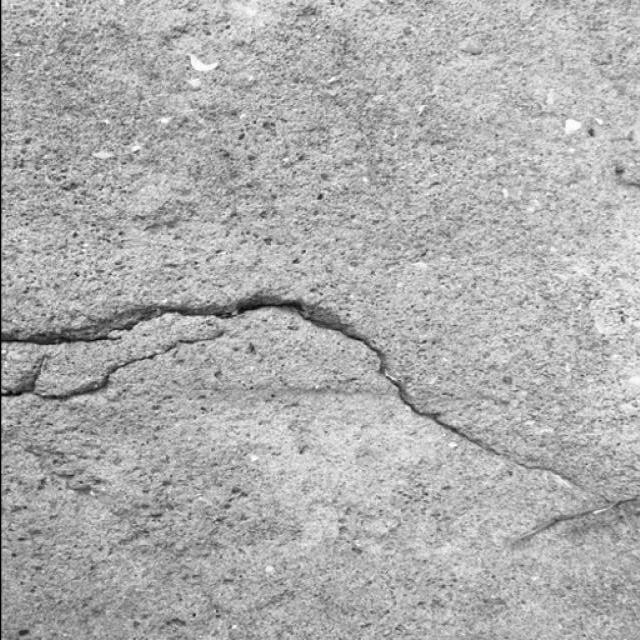SurfaceCrack: (1, 261, 640, 562)
